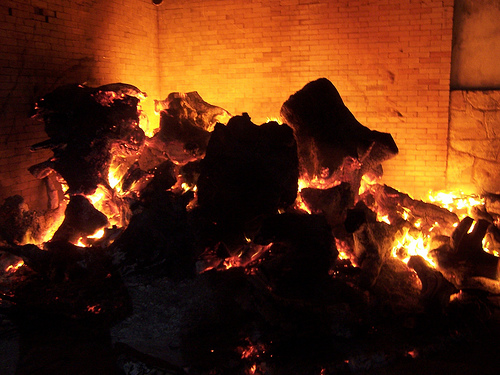fire: (295, 148, 488, 298), (34, 94, 194, 236)
